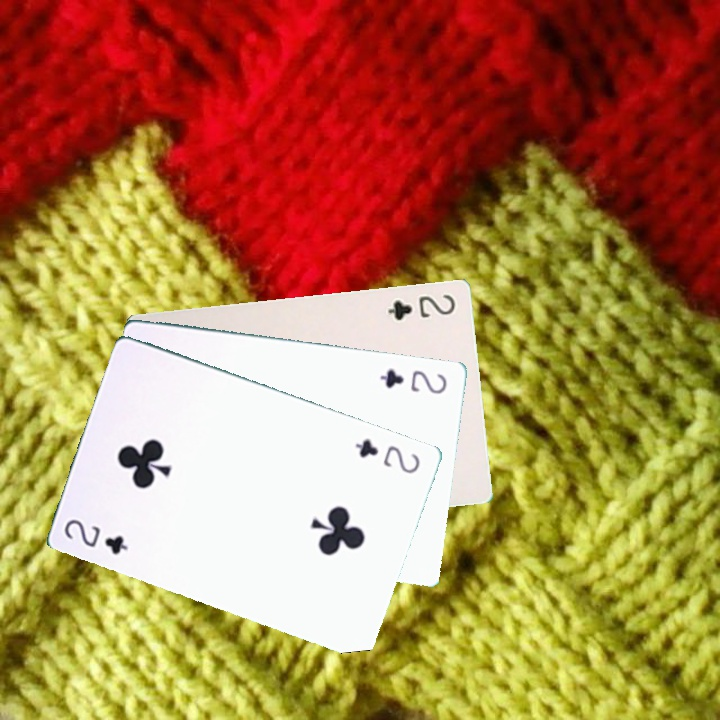2c: (351, 433, 423, 477), (60, 515, 131, 557), (383, 290, 458, 323), (376, 365, 450, 397)
